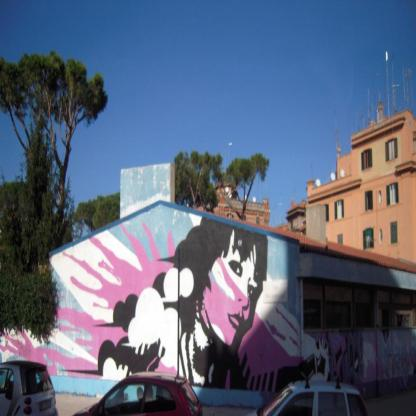Car: (76, 372, 205, 416), (258, 377, 367, 416), (1, 359, 55, 416)
